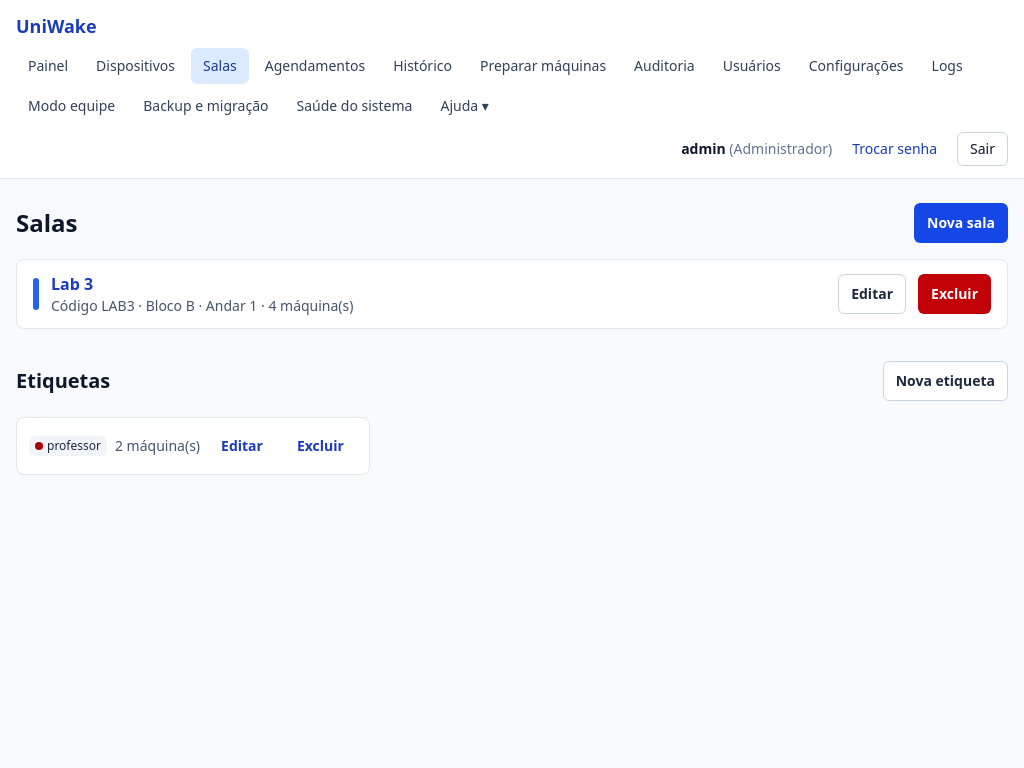
rooms page (FR-008.1, FR-008.2) › creates and deletes tags
Click the button "Nova etiqueta": (945, 381) [883,361,1008,401]
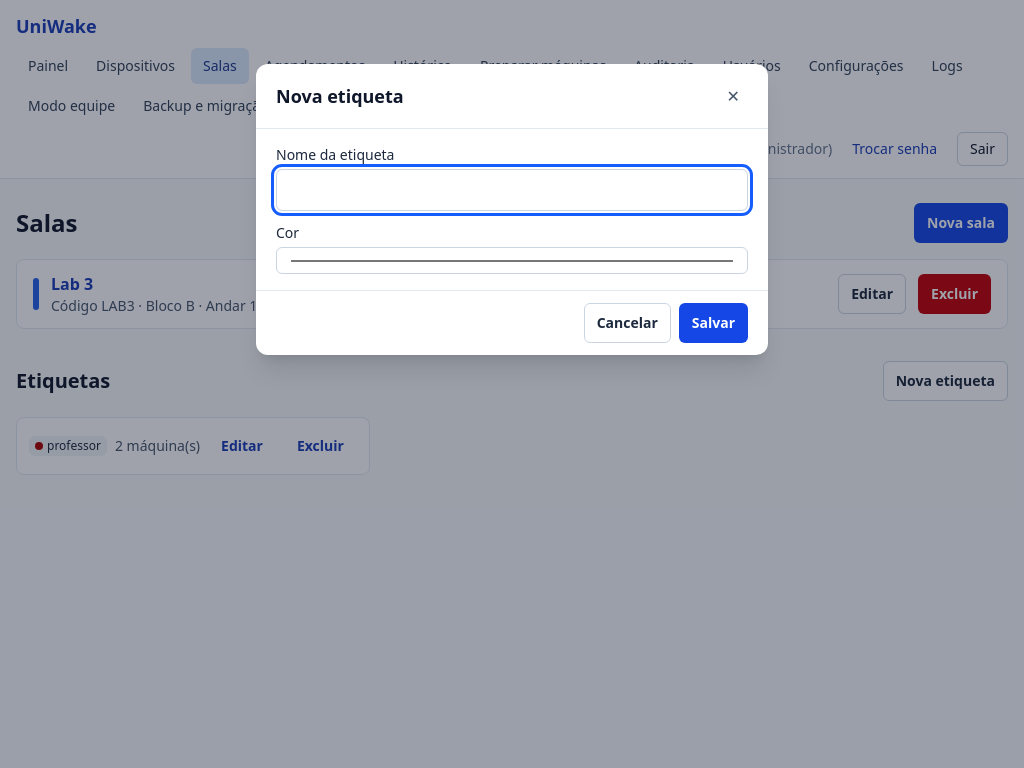
In the field labelled "Nome da etiqueta": (512, 190) [276,169,748,211], type "projetor"
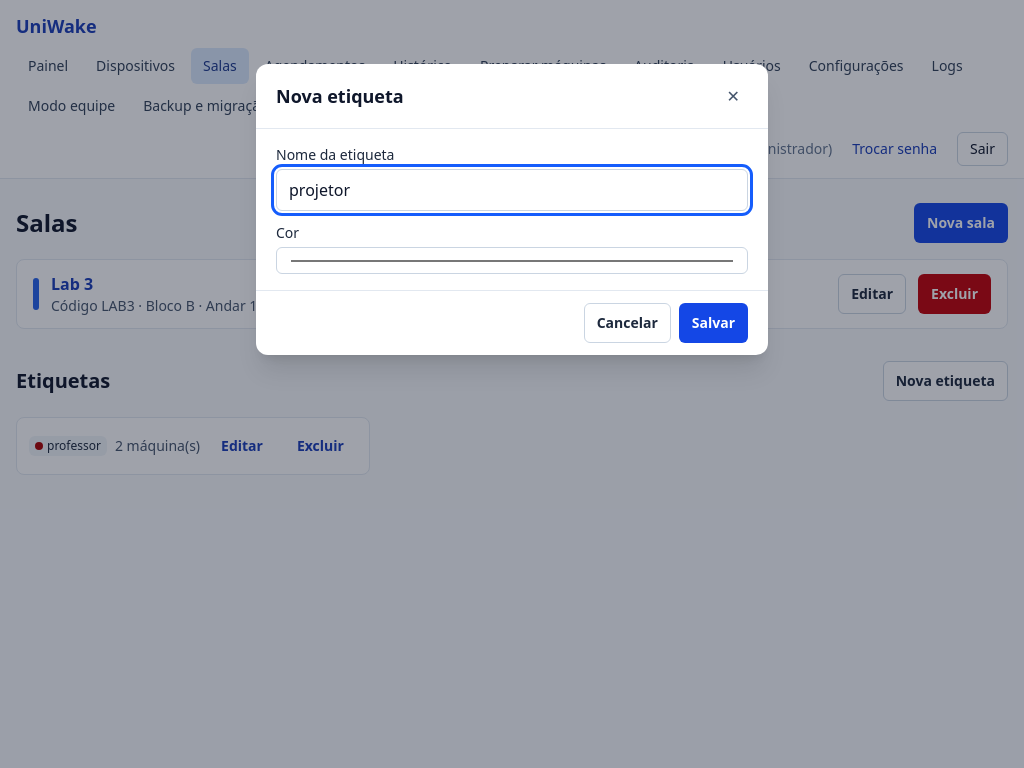
Click the button "Salvar": (713, 323) [679,303,748,343]
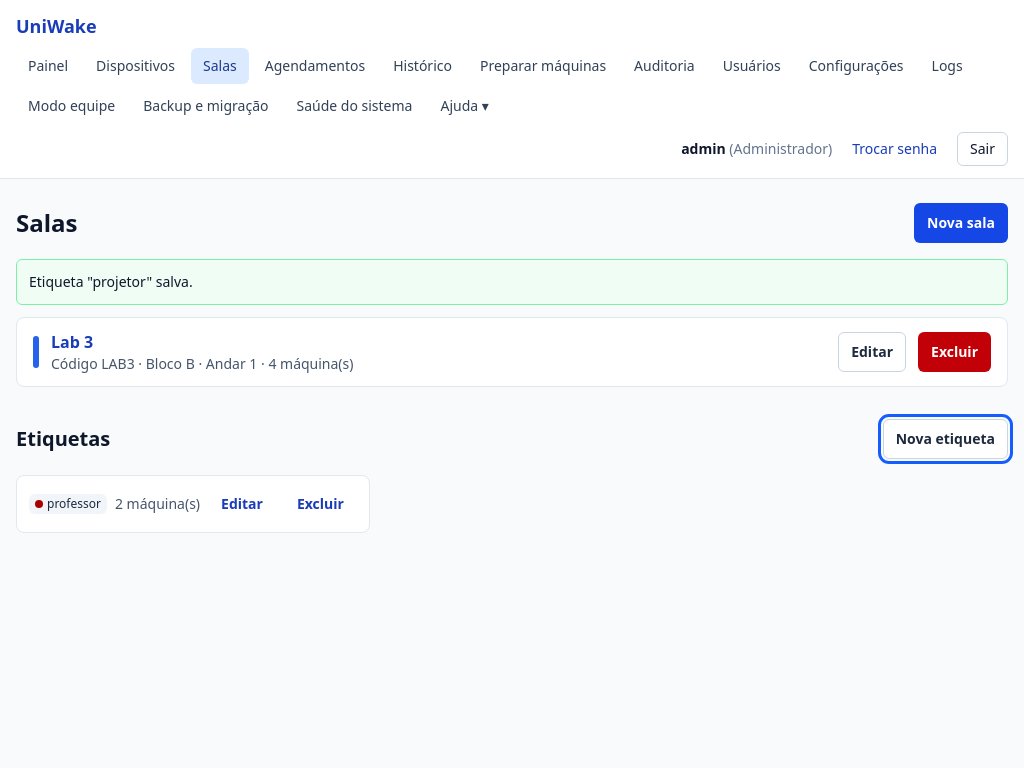
Check: the text "Etiqueta \"projetor\" salva." is shown, box [16,259,1008,305]
Click the button with aria-label "Excluir etiqueta professor": (320, 504) [284,484,357,524]
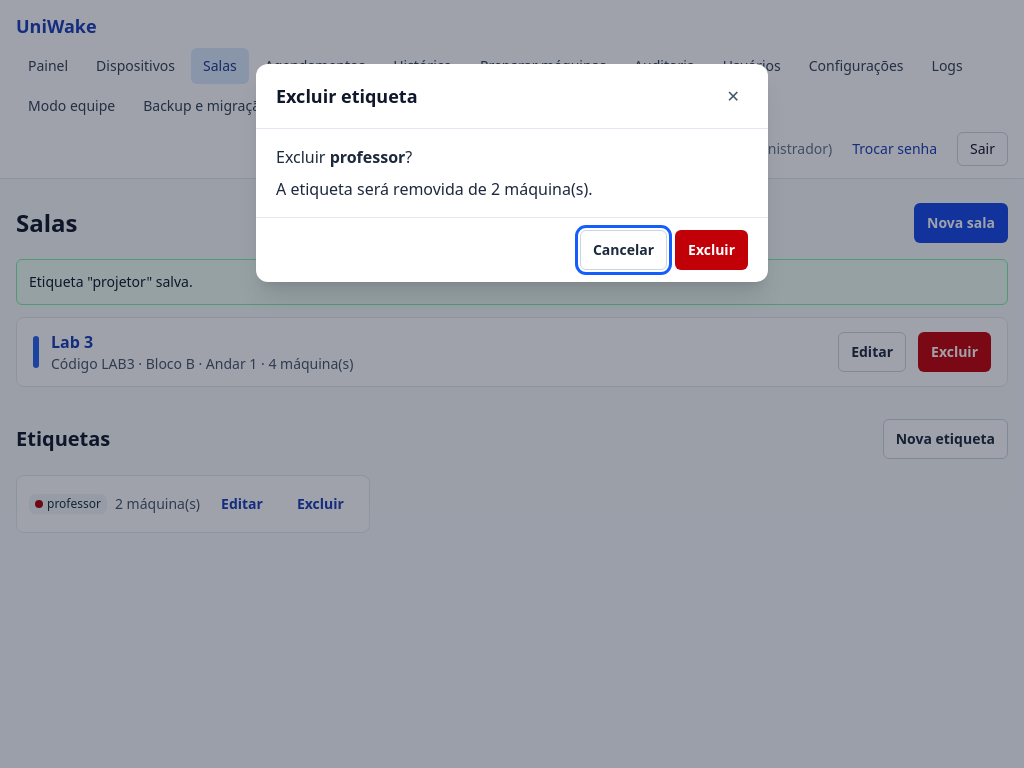
Check: the dialog "Excluir etiqueta" shows "A etiqueta será removida de 2 máquina(s).", box [256,64,768,282]
Click the button "Excluir": (712, 250) [675,230,748,270]
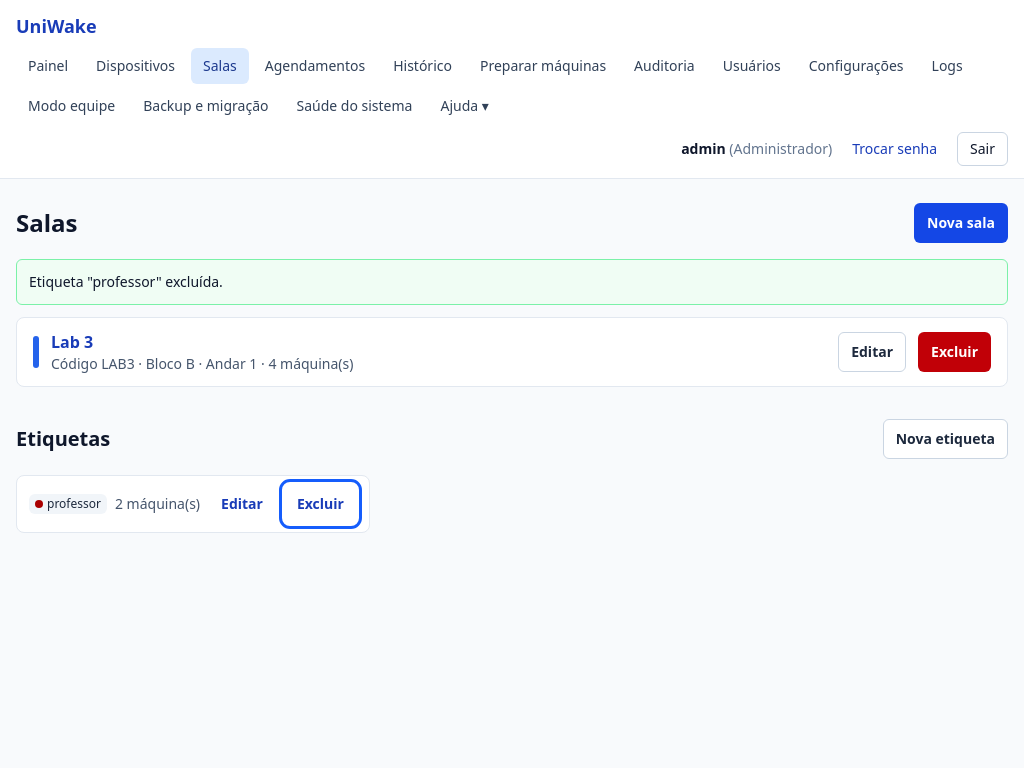
Check: the text "Etiqueta \"professor\" excluída." is shown, box [16,259,1008,305]
